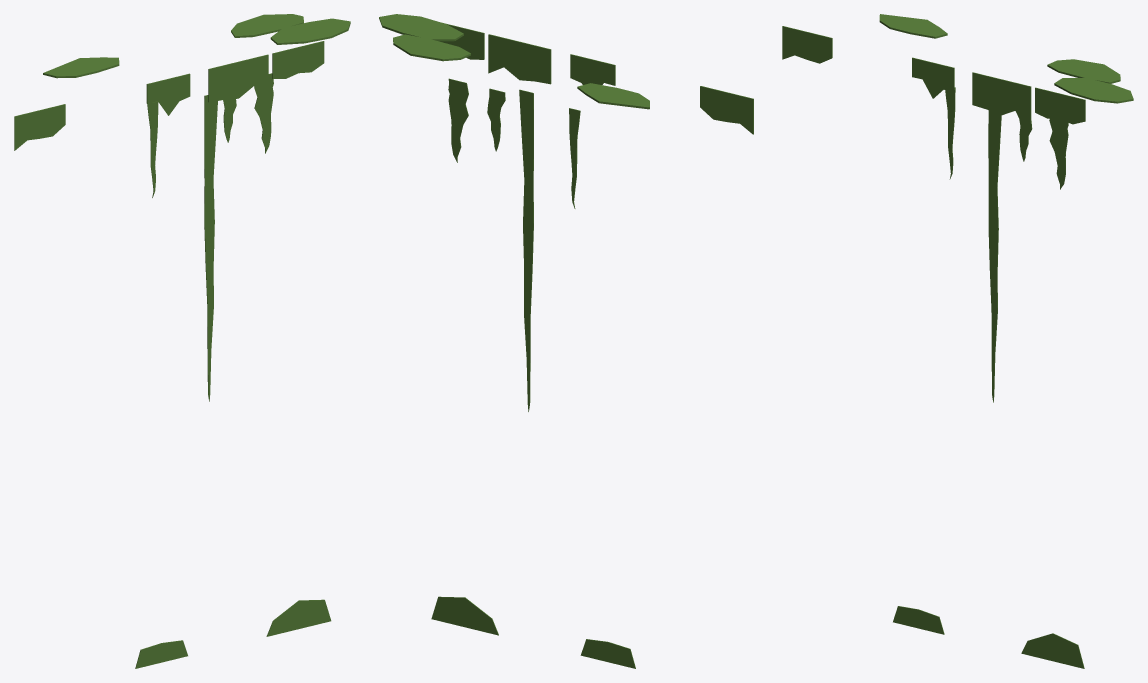
The model's file is Rempart_P1_Mousse_Travee_A.fbx.
The picture shows the model from 3 angles, left to right: view 1: azimuth 30°, elevation 25°; view 2: azimuth 150°, elevation 25°; view 3: azimuth 330°, elevation 25°; orthographic projection. The views are drawn at different scales.
Parts seen in each view (by area): view 1: P1_Mousse_Travee_A; view 2: P1_Mousse_Travee_A; view 3: P1_Mousse_Travee_A.
Boxes of the visible parts, x1=… form: P1_Mousse_Travee_A: x1=14, y1=14, x2=350, y2=668; P1_Mousse_Travee_A: x1=379, y1=14, x2=753, y2=668; P1_Mousse_Travee_A: x1=782, y1=14, x2=1133, y2=668.
Size of the model in its own units: 19.5 by 31.08 by 4.45.
